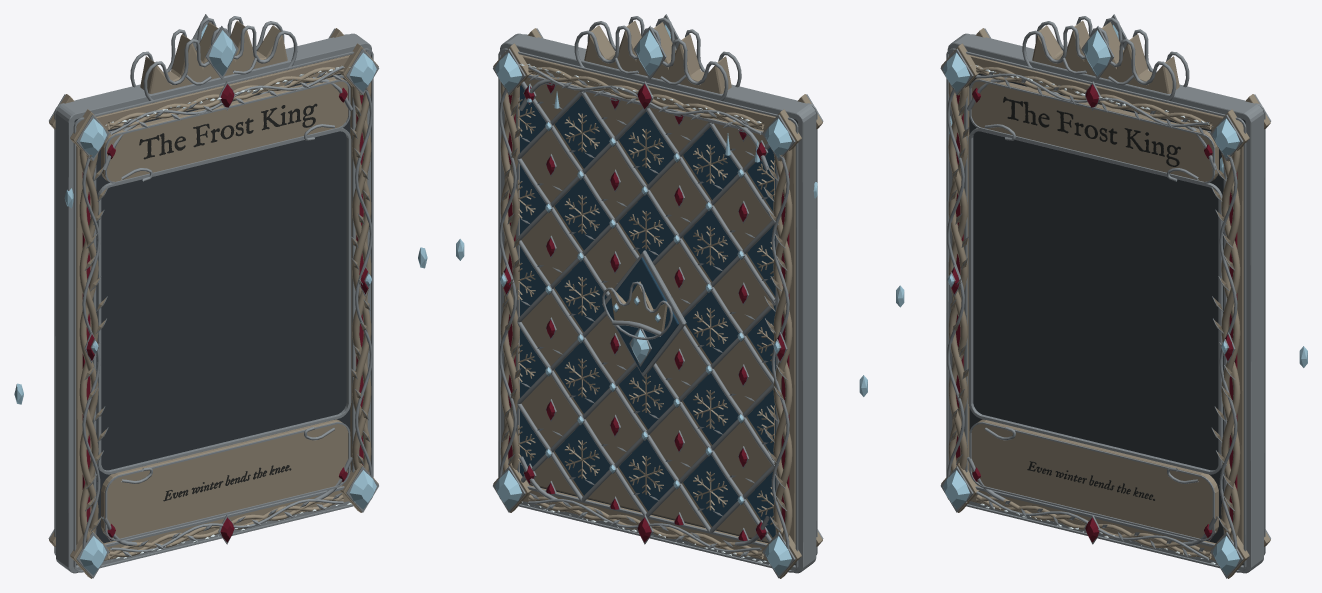
The model's file is winter-crown.glb.
The picture shows the model from 3 angles, left to right: view 1: azimuth 30°, elevation 25°; view 2: azimuth 150°, elevation 25°; view 3: azimuth 330°, elevation 25°; orthographic projection.
Parts seen in each view (by area): view 1: Oxidized recess casting, Carved ivory casting, Winter silver casting, Rock crystal casting, Burgundy enamel casting, Cut lettering casting; view 2: Carved ivory casting, Winter silver casting, Glacial enamel casting, Rock crystal casting, Burgundy enamel casting; view 3: Oxidized recess casting, Carved ivory casting, Winter silver casting, Rock crystal casting, Burgundy enamel casting, Cut lettering casting.
Boxes of the visible parts, bbox=[...] form: Oxidized recess casting: bbox=[74, 73, 350, 565]; Carved ivory casting: bbox=[49, 20, 378, 578]; Winter silver casting: bbox=[48, 14, 379, 578]; Rock crystal casting: bbox=[80, 24, 376, 575]; Burgundy enamel casting: bbox=[82, 84, 368, 542]; Cut lettering casting: bbox=[139, 103, 317, 501]; Carved ivory casting: bbox=[493, 21, 822, 578]; Winter silver casting: bbox=[493, 14, 823, 578]; Glacial enamel casting: bbox=[520, 85, 775, 537]; Rock crystal casting: bbox=[495, 24, 791, 575]; Burgundy enamel casting: bbox=[503, 83, 789, 542]; Oxidized recess casting: bbox=[969, 73, 1245, 565]; Carved ivory casting: bbox=[941, 20, 1270, 578]; Winter silver casting: bbox=[940, 14, 1270, 578]; Rock crystal casting: bbox=[943, 24, 1239, 575]; Burgundy enamel casting: bbox=[951, 84, 1237, 542]; Cut lettering casting: bbox=[1003, 96, 1180, 500].
Bounding box in the file's own units: 4.33 × 5.2 × 0.7648.
